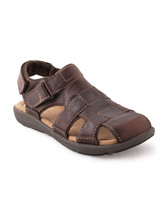shoes: (6, 58, 159, 154)
